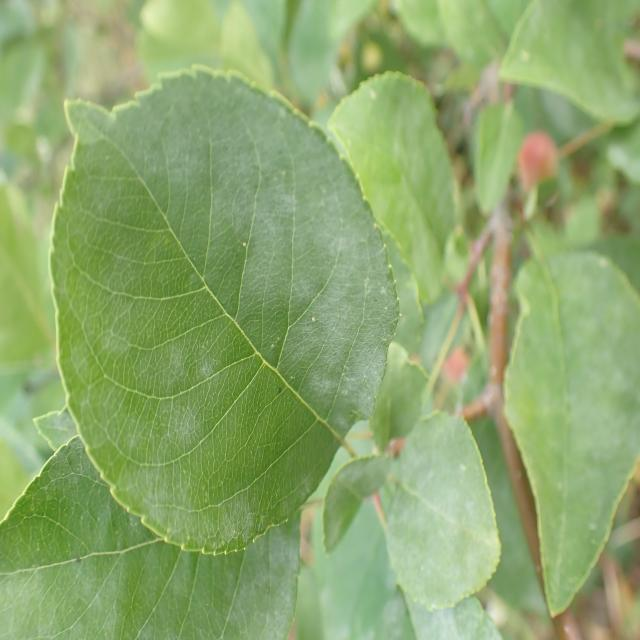Powdery_mildew: (56, 76, 376, 536), (0, 434, 303, 640), (377, 374, 497, 606)
